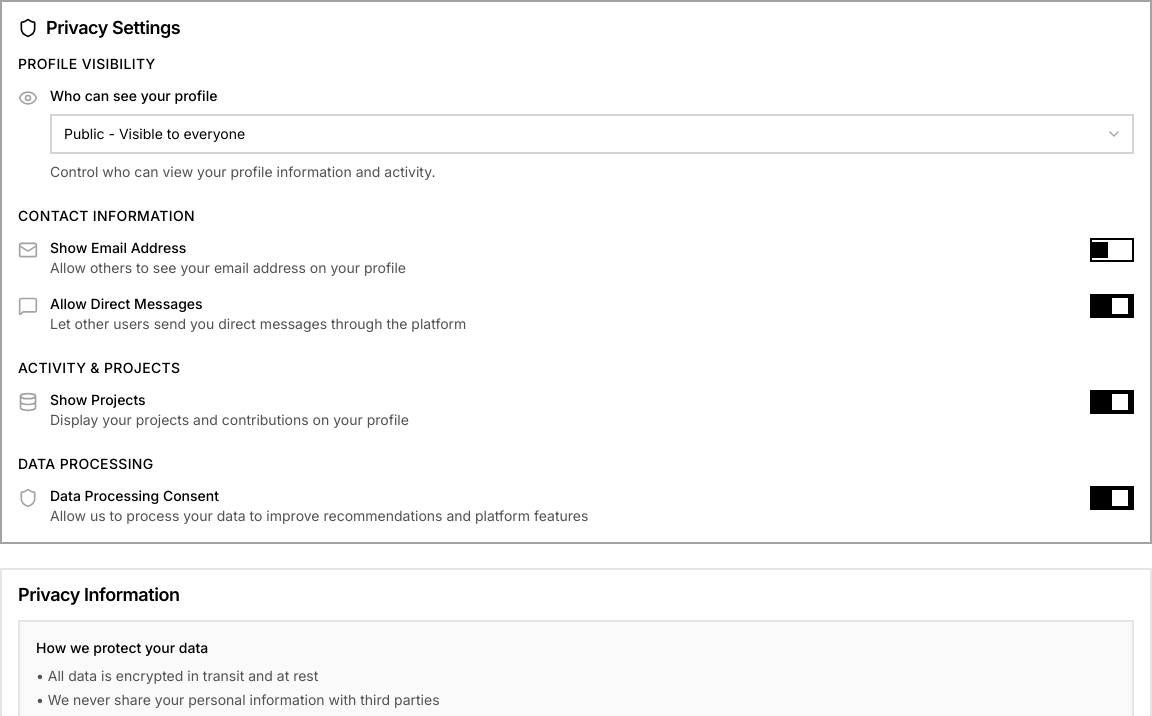
Scenario: PrivacySettings › resets settings to original values
Click the switch in the row of "Show Email Address": (1112, 250) [1090,238,1134,262]
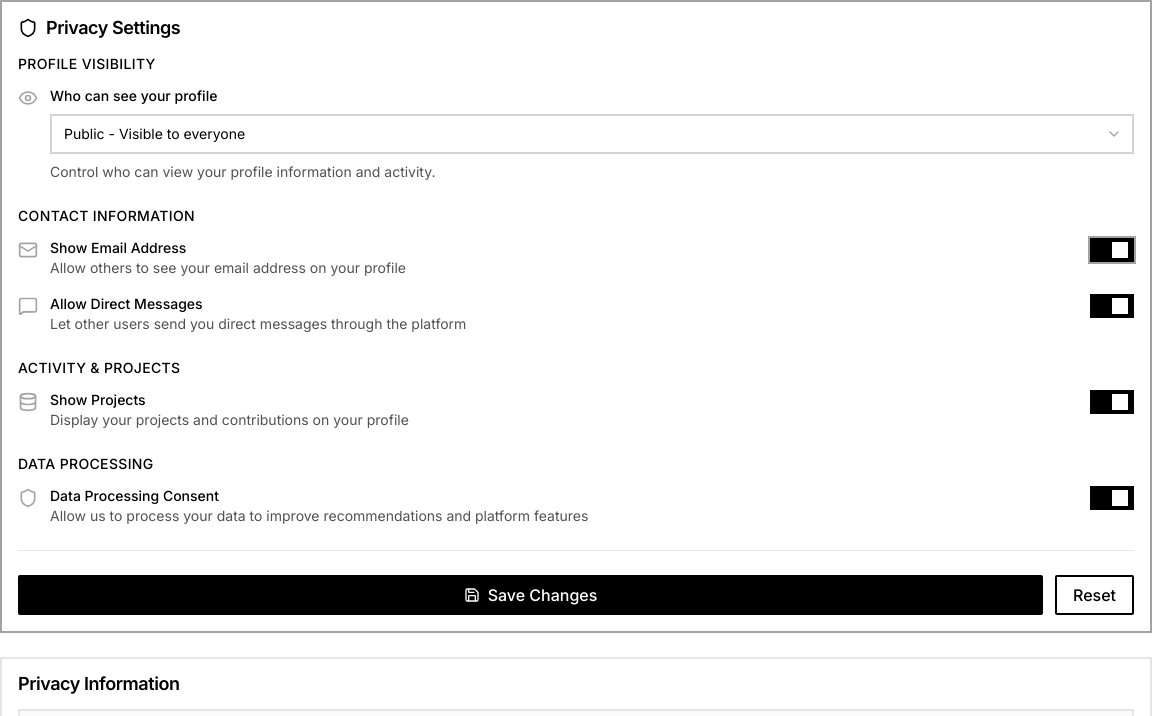
Check: the button "Save Changes" is shown, box [18,575,1043,615]
Check: the button "Reset" is shown
// Click reset
Click the button "Reset": (1094, 595) [1055,575,1134,615]
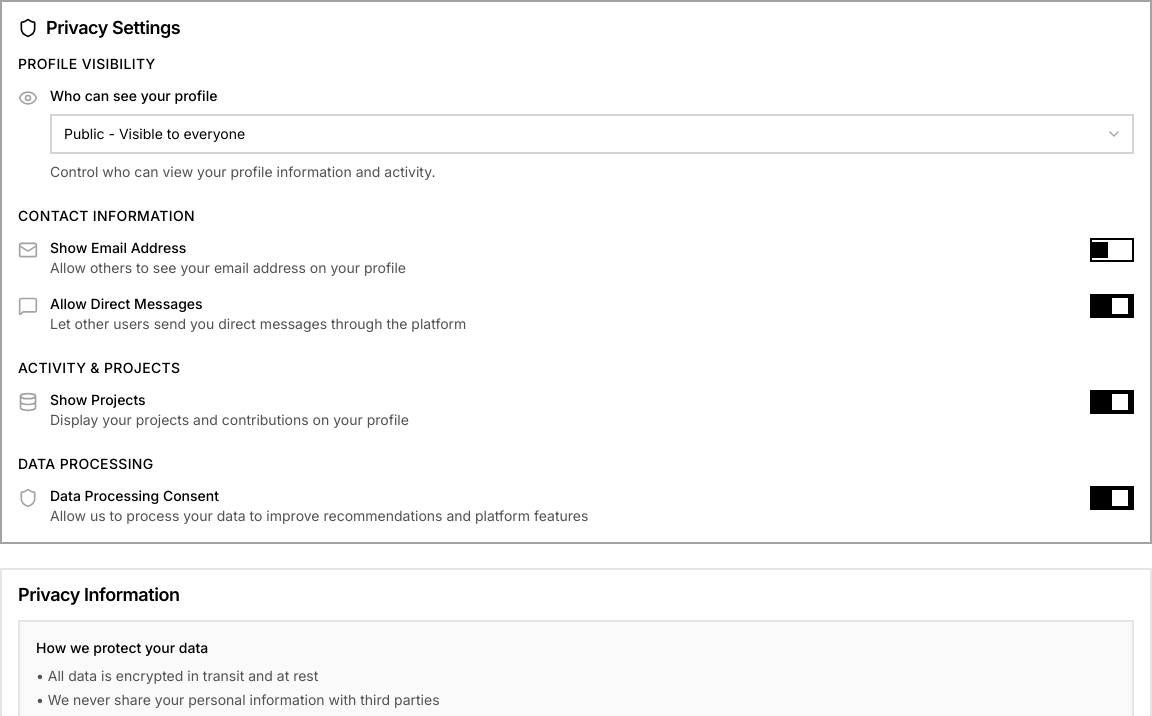
Check: the button "Save Changes" is gone
